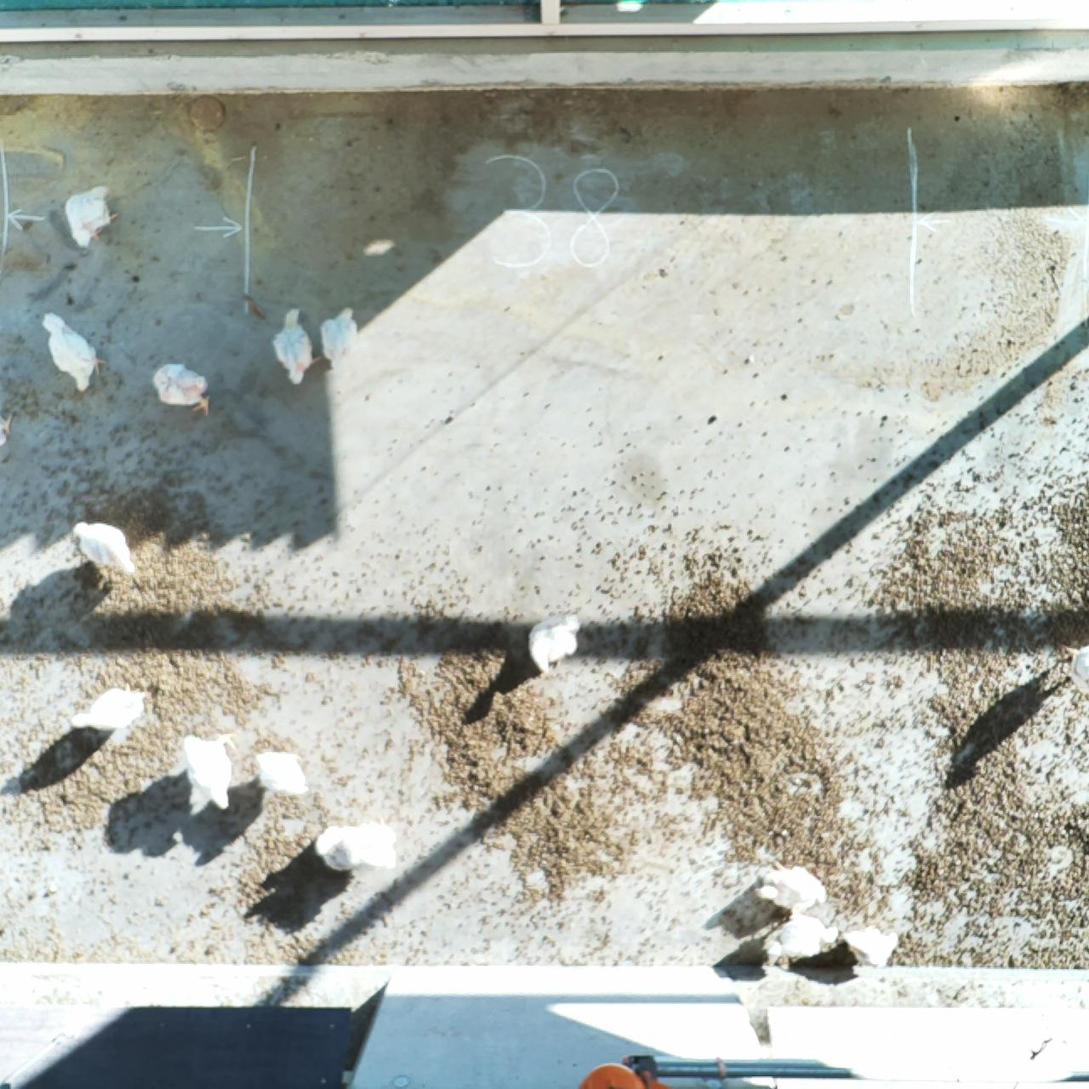chicken: (38, 308, 110, 394), (311, 814, 402, 875), (750, 856, 828, 921), (66, 679, 151, 738), (181, 730, 238, 813), (68, 518, 137, 582), (762, 907, 841, 962), (271, 305, 322, 389), (524, 609, 583, 676), (63, 182, 120, 250), (152, 361, 215, 416), (249, 747, 311, 800), (839, 920, 902, 972), (319, 305, 359, 374)
